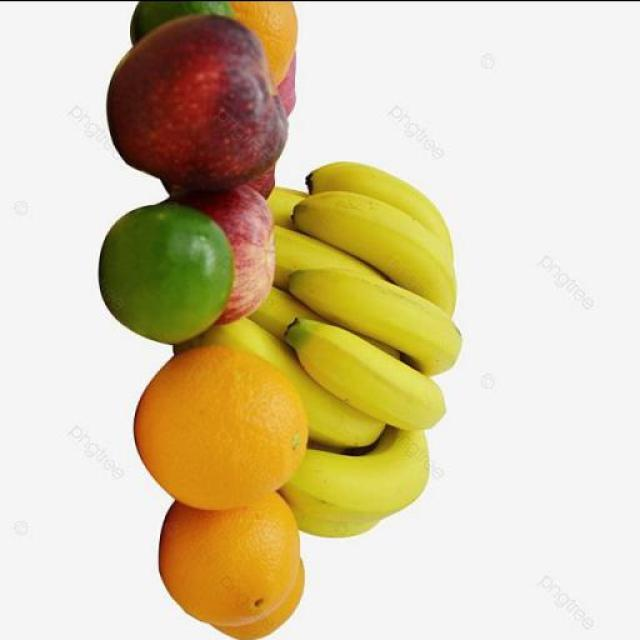onion: (297, 426, 420, 546), (173, 420, 293, 542)
tomato: (205, 95, 328, 236), (318, 133, 410, 244)
